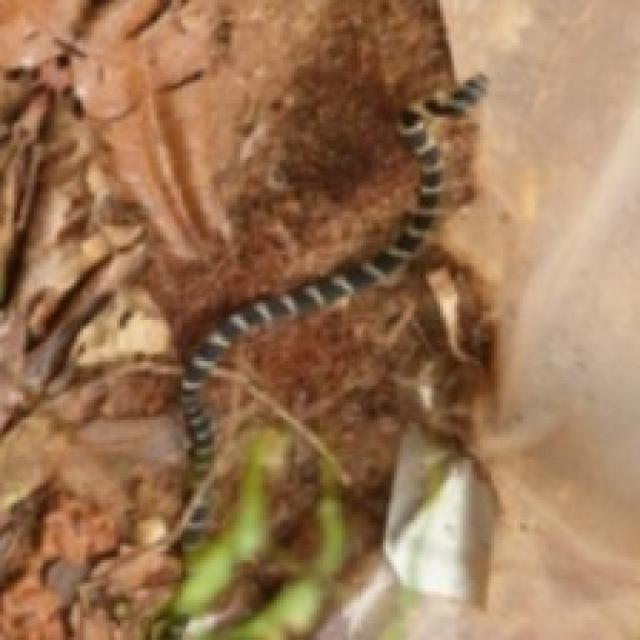king cobra: (174, 74, 486, 540)
